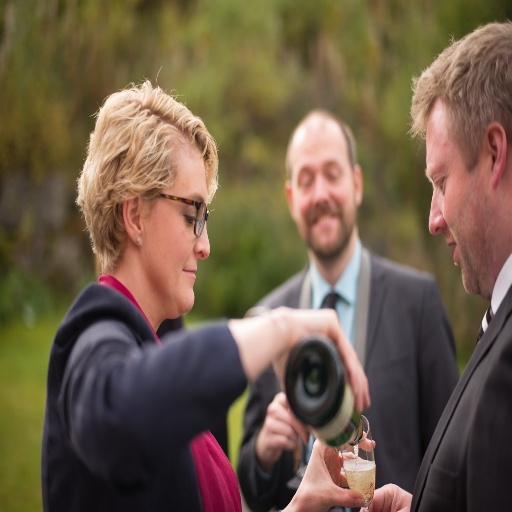hand: (268, 305, 371, 416), (280, 430, 377, 511), (253, 396, 302, 484), (366, 481, 413, 511)
